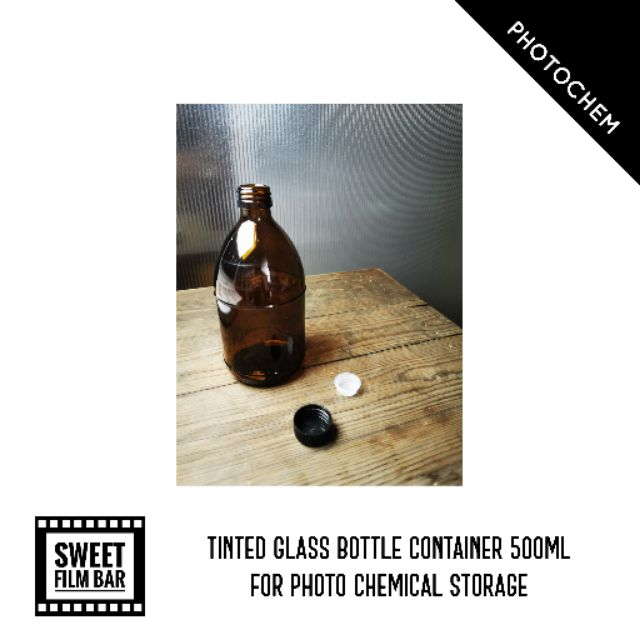glass_bottle: (211, 181, 314, 390)
